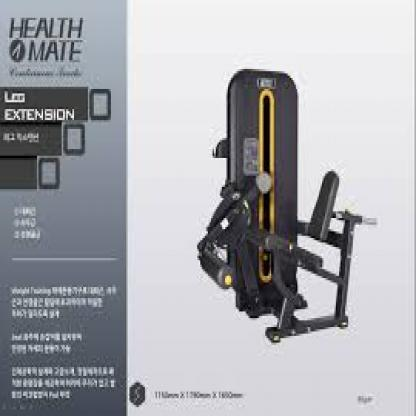leg extension: (185, 64, 384, 358)
